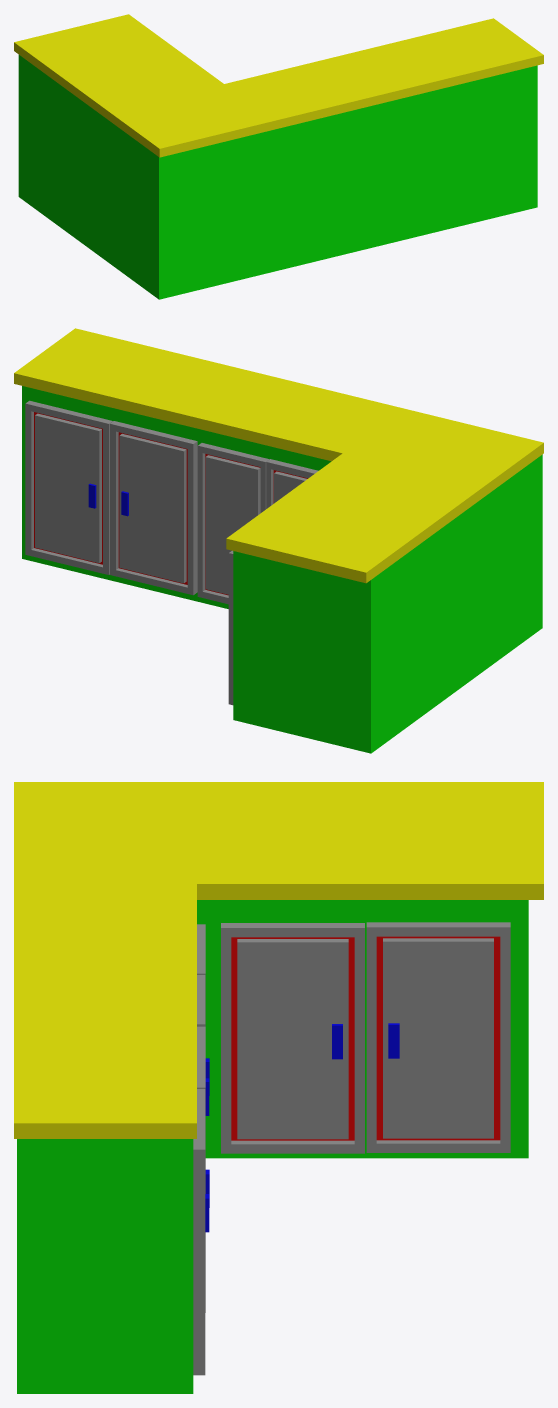
Rendered from Big_Armoire6.fbx.
3 views of the same model, one above another, from view 1: azimuth 30°, elevation 25°; view 2: azimuth 150°, elevation 25°; view 3: azimuth 270°, elevation 25° (orthographic). The views are drawn at different scales.
Parts seen in each view (by area): view 1: pCube157; view 2: pCube157; view 3: pCube157.
Part boxes in pixels (bbox=[...]): pCube157: bbox=[14, 14, 543, 299]; pCube157: bbox=[14, 328, 543, 753]; pCube157: bbox=[14, 782, 543, 1393].
Bounding box in the file's own units: 433 × 163 × 284.
